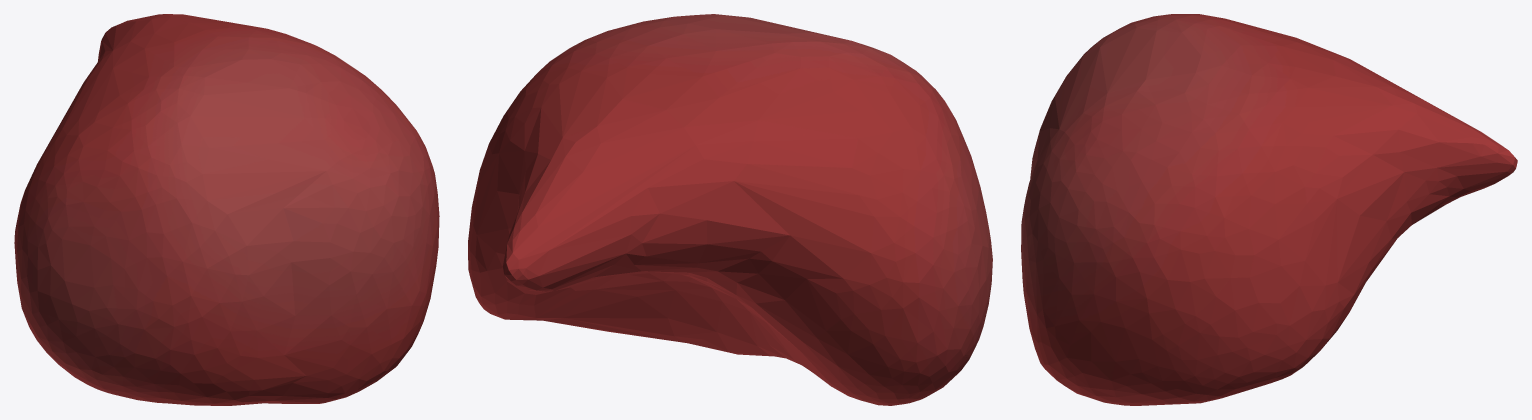
File: Amygdala.obj
The picture shows the model from 3 angles, left to right: view 1: azimuth 30°, elevation 25°; view 2: azimuth 150°, elevation 25°; view 3: azimuth 270°, elevation 25°; orthographic projection. The views are drawn at different scales.
Visible parts, largest first — view 1: obj0; view 2: obj0; view 3: obj0.
Part boxes in pixels (x1,y1,x2,y2): obj0: (14,14,439,405); obj0: (468,14,992,405); obj0: (1021,14,1517,405).
Size of the model in its own units: 8.26 by 6.2 by 8.84.
Materials: 1 (1 with a texture image).
